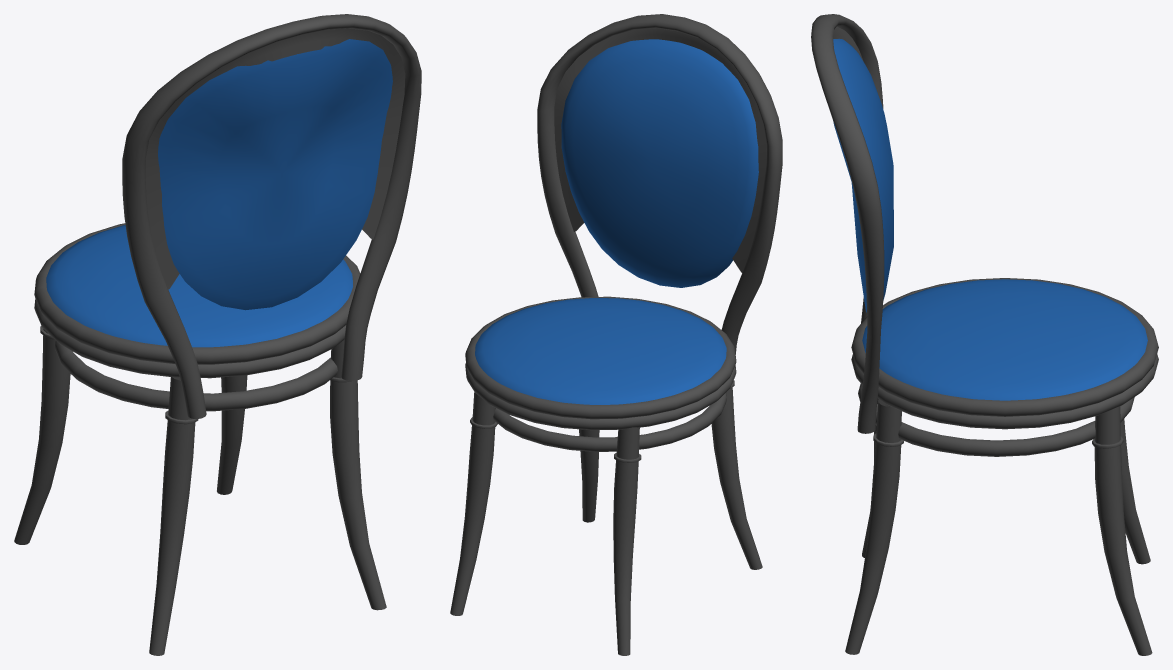
Rendered from CafeChairTest_02.FBX.
3 renders of one model, left to right at view 1: azimuth 30°, elevation 25°; view 2: azimuth 150°, elevation 25°; view 3: azimuth 270°, elevation 25°, orthographic. The views are drawn at different scales.
Parts seen in each view (by area): view 1: HightPoly_02; view 2: HightPoly_02; view 3: HightPoly_02.
Boxes of the visible parts, x1,y1,x2,y2 form: HightPoly_02: [14, 14, 421, 655]; HightPoly_02: [450, 14, 782, 655]; HightPoly_02: [811, 14, 1158, 655].
Bounding box in the file's own units: 60.58 × 122 × 66.69.
